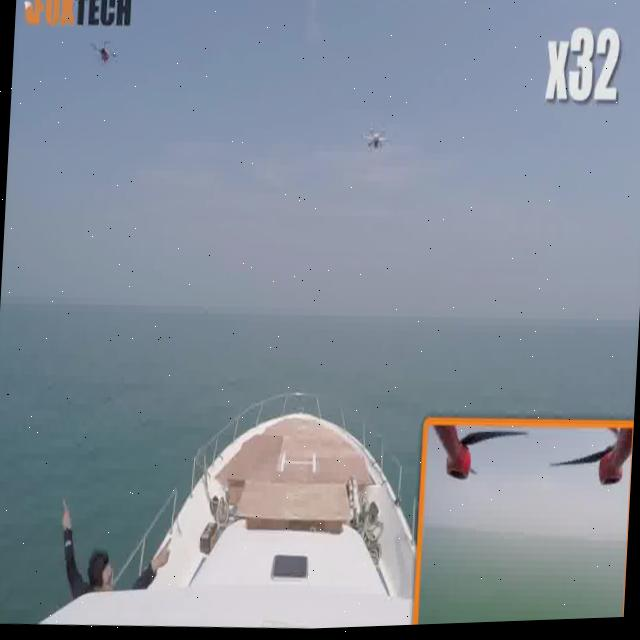drone: (83, 30, 132, 80)
